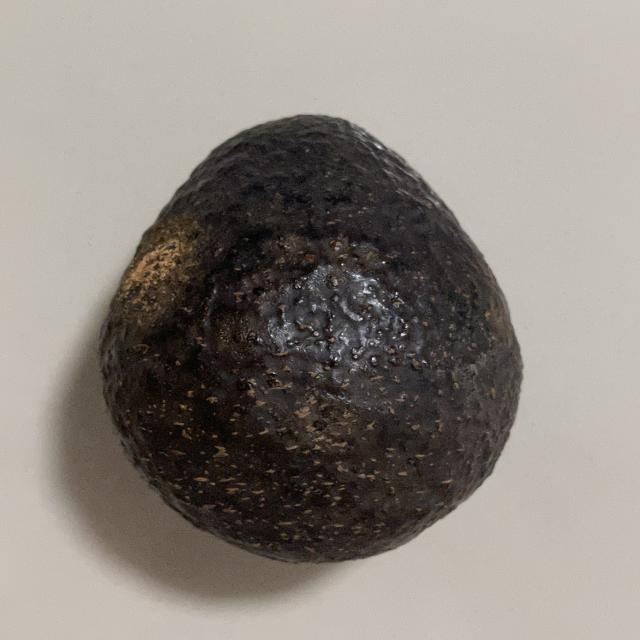Level3: (87, 103, 532, 572)
